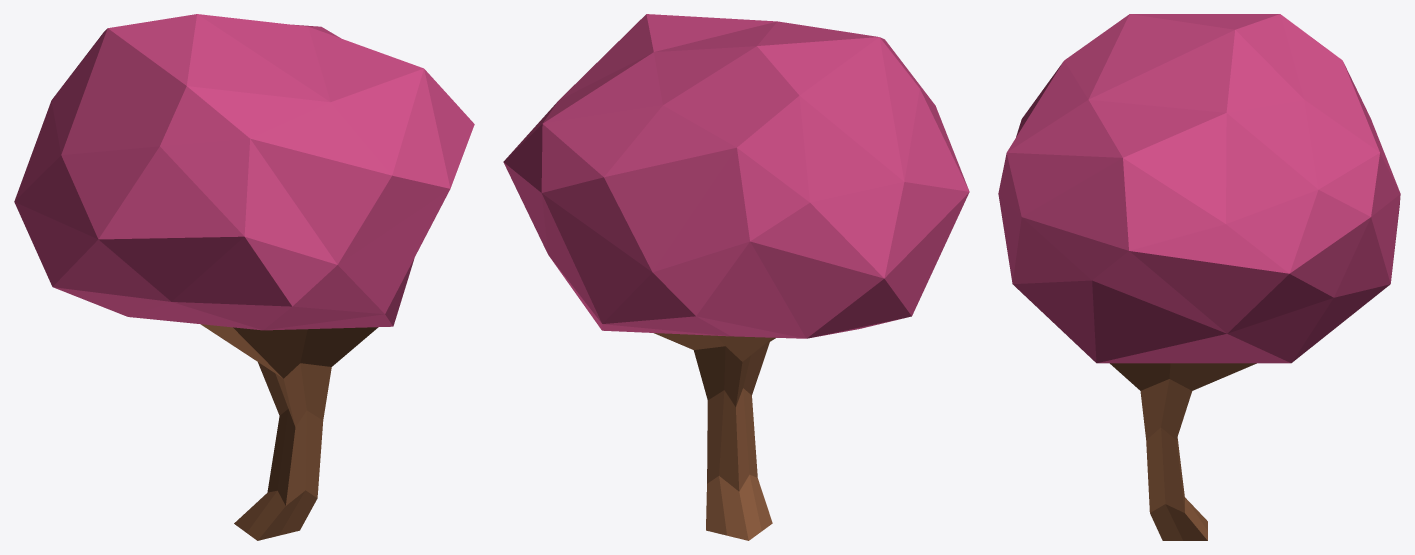
Rendered from Tree_35_Pink.fbx.
3 renders of one model, left to right at view 1: azimuth 30°, elevation 25°; view 2: azimuth 150°, elevation 25°; view 3: azimuth 270°, elevation 25°, orthographic. The views are drawn at different scales.
Visible parts, largest first — view 1: Tree_35_Pink_Part_1, Tree_35_Pink_Part_2; view 2: Tree_35_Pink_Part_1, Tree_35_Pink_Part_2; view 3: Tree_35_Pink_Part_1, Tree_35_Pink_Part_2.
Boxes of the visible parts, bbox=[...] form: Tree_35_Pink_Part_1: bbox=[14, 14, 474, 330]; Tree_35_Pink_Part_2: bbox=[201, 324, 377, 540]; Tree_35_Pink_Part_1: bbox=[503, 14, 969, 338]; Tree_35_Pink_Part_2: bbox=[654, 333, 775, 540]; Tree_35_Pink_Part_1: bbox=[998, 14, 1400, 363]; Tree_35_Pink_Part_2: bbox=[1110, 363, 1256, 540].
Size of the model in its own units: 636 by 815 by 618.
